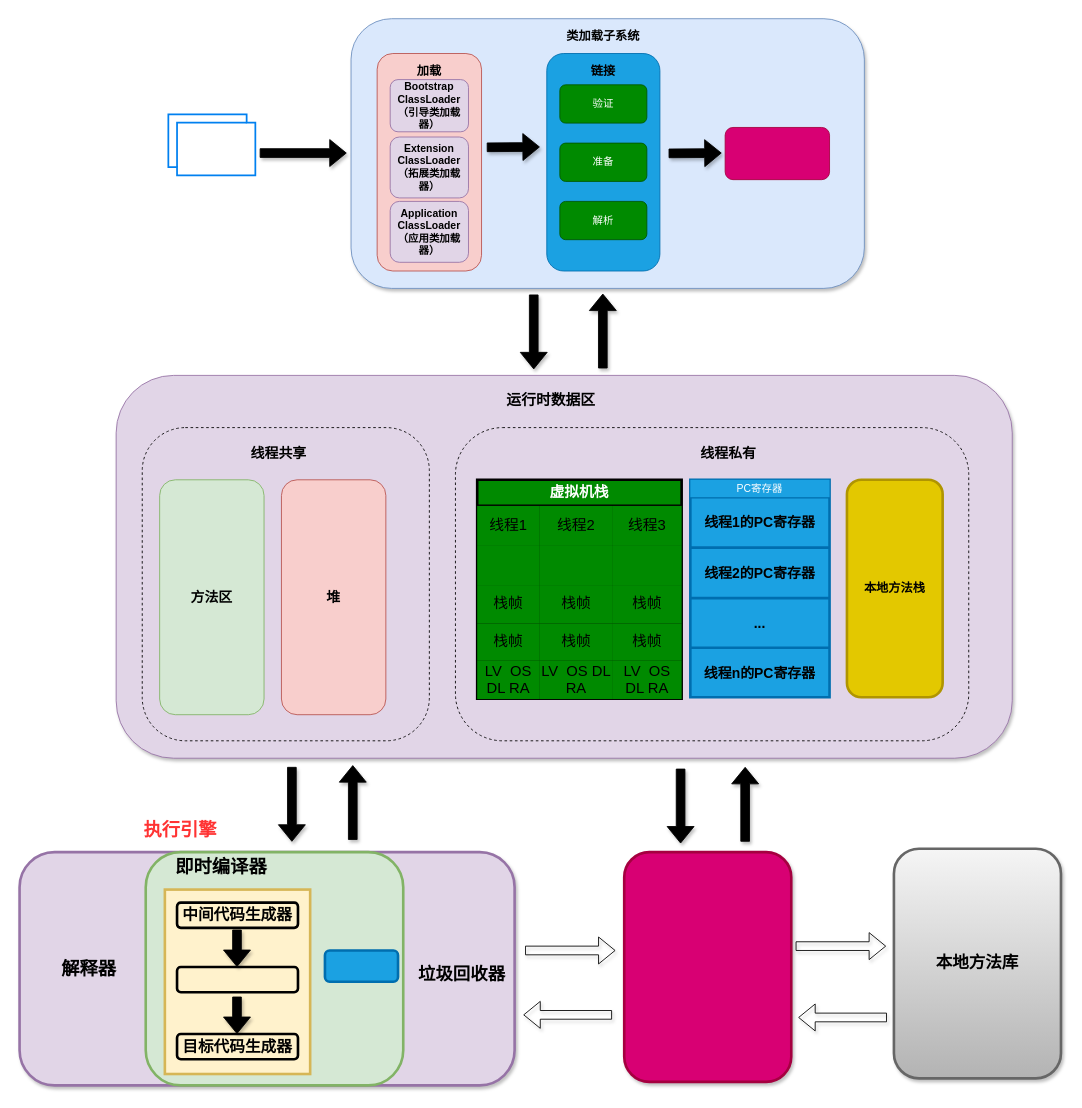
The diagram is 1082 pixels wide and 1108 high, and some of its shapes have lost their labels. The shapes that lost their labels are listed below. From the top down, each one's centre as x and y in pixels, then its label:
(211,144): 类文件
(777,153): 初始化
(237,979): 代码优化器
(361,966): 分析器
(708,968): 本地方法接口
